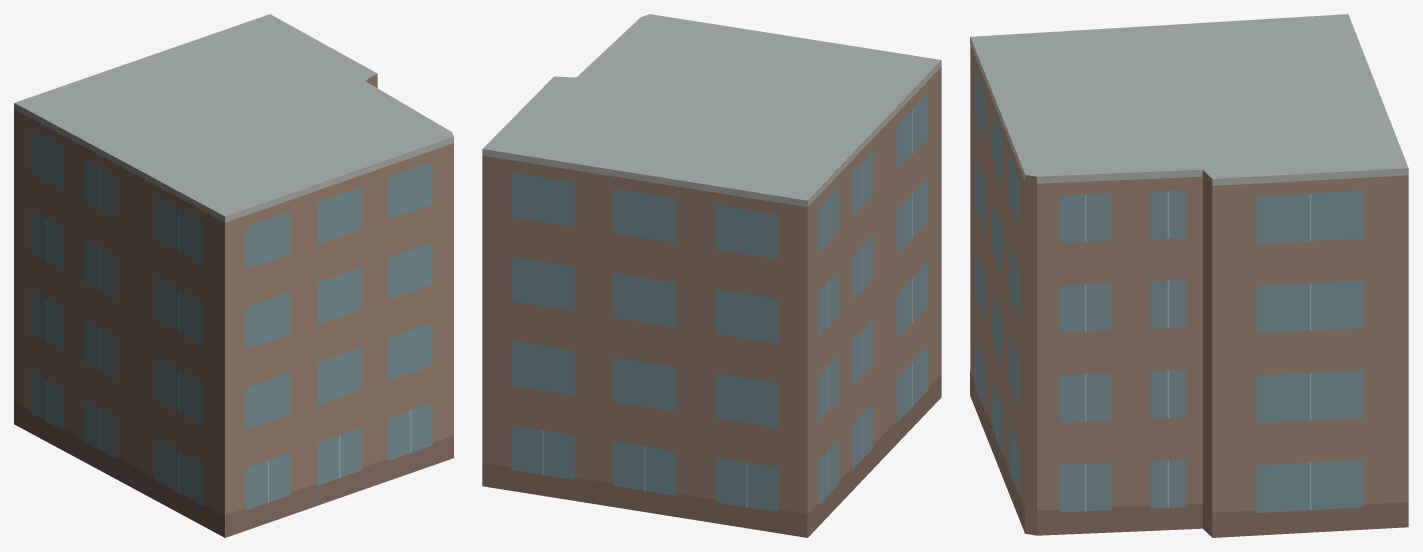
The model's file is survey-upis-32512234.glb.
3 renders of one model, left to right at view 1: azimuth 30°, elevation 25°; view 2: azimuth 150°, elevation 25°; view 3: azimuth 270°, elevation 25°, orthographic. The views are drawn at different scales.
Visible parts, largest first — view 1: survey-upis-32512234.tmp; view 2: survey-upis-32512234.tmp; view 3: survey-upis-32512234.tmp.
Boxes of the visible parts, x1=… form: survey-upis-32512234.tmp: x1=14, y1=14, x2=453, y2=537; survey-upis-32512234.tmp: x1=482, y1=14, x2=941, y2=537; survey-upis-32512234.tmp: x1=970, y1=14, x2=1408, y2=537.
Size of the model in its own units: 12.33 by 12.5 by 13.85.
